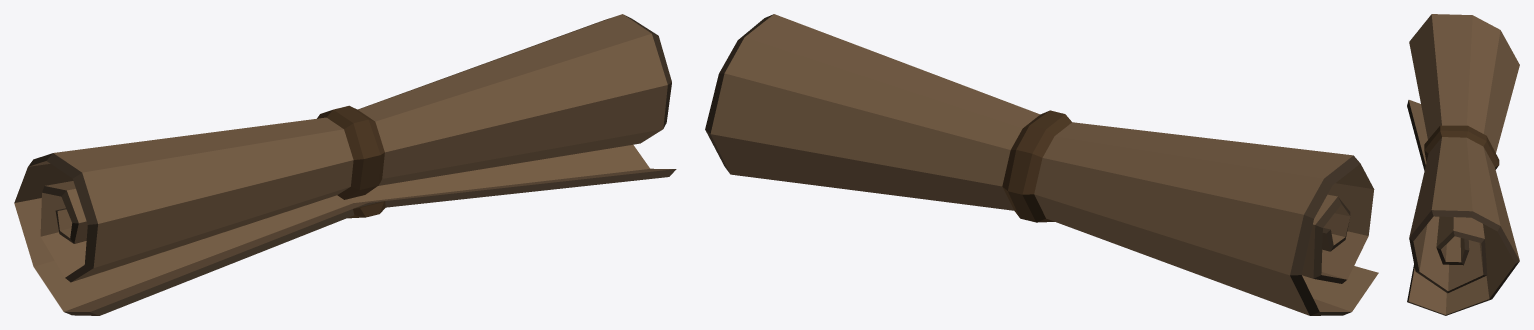
The model's file is Parchment_2_Brown.fbx.
3 views of the same model, side by side, from view 1: azimuth 30°, elevation 25°; view 2: azimuth 150°, elevation 25°; view 3: azimuth 270°, elevation 25° (orthographic). The views are drawn at different scales.
Visible parts, largest first — view 1: Parchment_2_Brown_Part_1, Parchment_2_Brown_Part_2, Parchment_2_Brown_Part_3; view 2: Parchment_2_Brown_Part_1, Parchment_2_Brown_Part_2, Parchment_2_Brown_Part_3; view 3: Parchment_2_Brown_Part_1, Parchment_2_Brown_Part_2, Parchment_2_Brown_Part_3.
Boxes of the visible parts, x1=… form: Parchment_2_Brown_Part_1: x1=14, y1=14, x2=674, y2=311; Parchment_2_Brown_Part_2: x1=28, y1=15, x2=676, y2=315; Parchment_2_Brown_Part_3: x1=317, y1=105, x2=385, y2=218; Parchment_2_Brown_Part_1: x1=710, y1=14, x2=1378, y2=315; Parchment_2_Brown_Part_2: x1=705, y1=14, x2=1360, y2=315; Parchment_2_Brown_Part_3: x1=1002, y1=110, x2=1071, y2=222; Parchment_2_Brown_Part_1: x1=1408, y1=14, x2=1519, y2=314; Parchment_2_Brown_Part_2: x1=1407, y1=100, x2=1519, y2=315; Parchment_2_Brown_Part_3: x1=1424, y1=125, x2=1499, y2=169.
Size of the model in its own units: 20.41 by 4.99 by 4.82.
